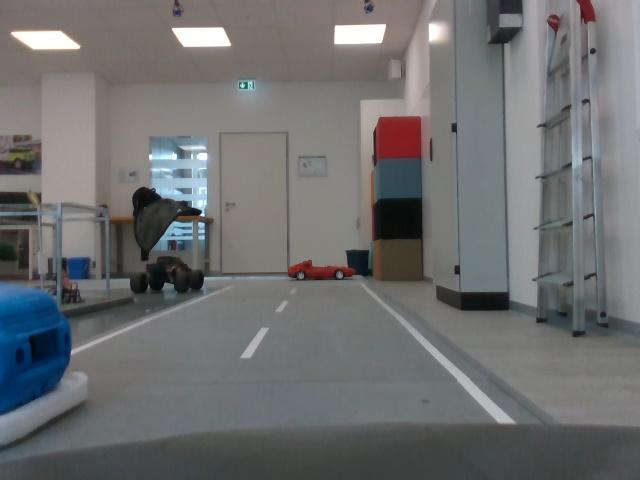car: (125, 254, 209, 301), (287, 258, 358, 289)
